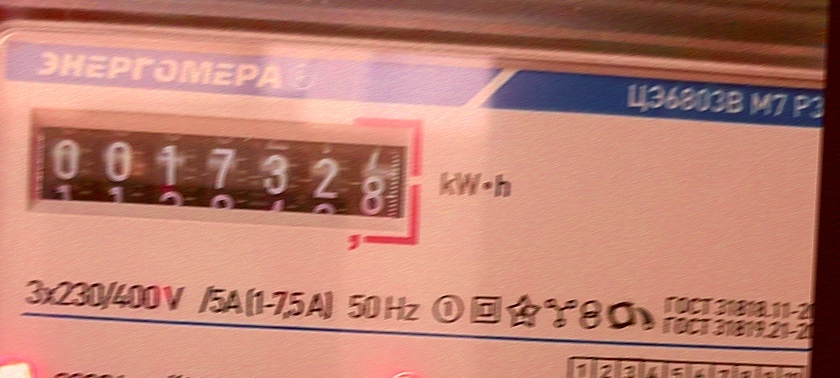0: (49, 135, 83, 180), (103, 135, 134, 182)
1: (157, 139, 181, 186)
2: (309, 153, 341, 199)
3: (261, 149, 290, 194)
7: (207, 143, 236, 191)
8: (358, 171, 385, 215)
screen: (15, 99, 431, 249)
